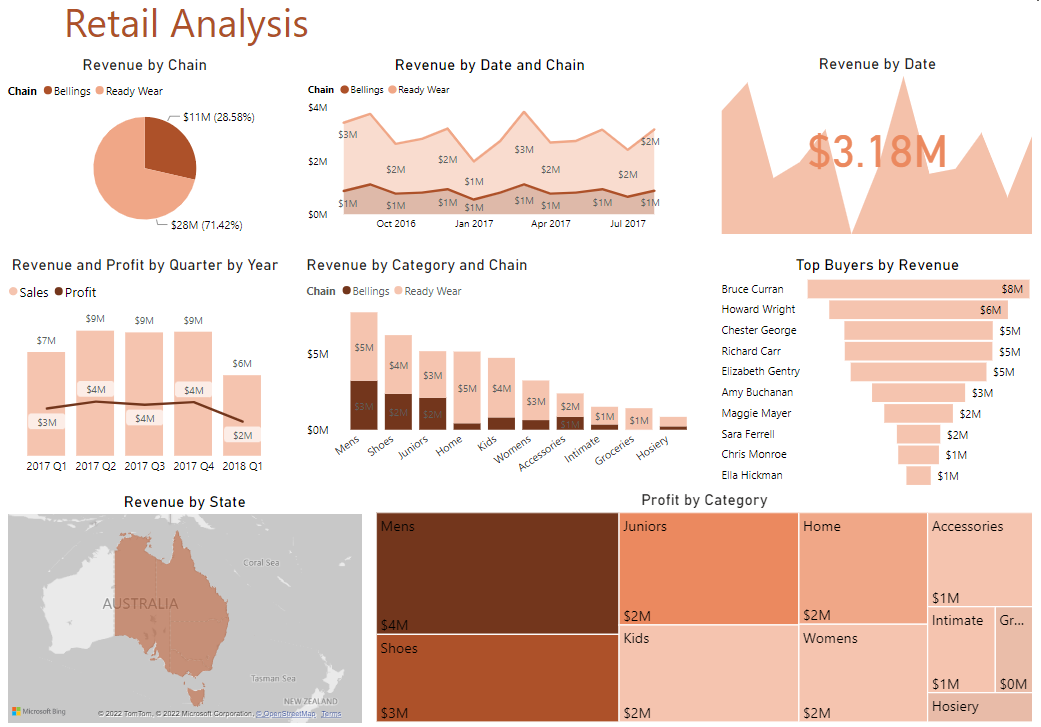

Layout of this report page (visuals, bound fields, positions):
{"tool":"powerbi","page":{"name":"Page 1","canvas":[1280,900],"ordinal":0},"visuals":[{"type":"kpi","title":"Revenue by Date","fields":{"Indicator":["Sum(Sales.Sales)"],"TrendLine":["Dates.Date"],"Goal":["Sum(Sales.Profit)"]},"box":[888.6,78.3,391.4,224.1],"z":0},{"type":"lineClusteredColumnComboChart","title":"Revenue and Profit by Quarter by Year","fields":{"Category":["Dates.FY Qtr"],"Y":["Sum(Sales.Sales)"],"Y2":["Sum(Sales.Profit)"]},"box":[16.9,323.8,345.3,276.3],"z":1000},{"type":"pieChart","title":"Revenue by Chain","fields":{"Category":["Sales.Chain"],"Y":["Sum(Sales.Sales)"]},"box":[17.5,78.8,345,223.8],"z":2000},{"type":"filledMap","title":"Revenue by State","fields":{"Category":["Regions.State"]},"box":[17.1,612.1,442.9,287.1],"z":3000},{"type":"columnChart","title":"Revenue by Category and Chain","fields":{"Category":["Sales.Category"],"Y":["Sum(Sales.Sales)"],"Series":["Sales.Chain"]},"box":[382,323.9,492,287.3],"z":4000},{"type":"treemap","title":"Profit by Category","fields":{"Values":["Sum(Sales.Profit)"],"Group":["Sales.Category"]},"box":[468.2,610.9,811.8,287.3],"z":5000},{"type":"stackedAreaChart","title":"Revenue by Date and Chain","fields":{"Category":["Sales.Date"],"Y":["Sum(Sales.Sales)"],"Series":["Sales.Chain"]},"box":[383.8,78.8,455,223.8],"z":6000},{"type":"funnel","title":"Top Buyers by Revenue","fields":{"Category":["Buyers.Buyer"],"Y":["Sum(Sales.Sales)"]},"box":[888.6,323.8,391.4,287],"z":7000},{"type":"textbox","box":[85.9,0,590.9,78.3],"z":8000}]}

Visuals, with their boxes in screenshot pixels (x1, y1, x2, y2), scaled from the page's 1280x900 canvas onto the 1041x727 screenshot:
"Revenue by Date" kpi: pyautogui.locateOnScreen(723, 63, 1040, 244)
"Revenue and Profit by Quarter by Year" lineClusteredColumnComboChart: pyautogui.locateOnScreen(14, 262, 295, 485)
"Revenue by Chain" pieChart: pyautogui.locateOnScreen(14, 64, 295, 244)
"Revenue by State" filledMap: pyautogui.locateOnScreen(14, 494, 374, 726)
"Revenue by Category and Chain" columnChart: pyautogui.locateOnScreen(311, 262, 711, 494)
"Profit by Category" treemap: pyautogui.locateOnScreen(381, 493, 1040, 726)
"Revenue by Date and Chain" stackedAreaChart: pyautogui.locateOnScreen(312, 64, 682, 244)
"Top Buyers by Revenue" funnel: pyautogui.locateOnScreen(723, 262, 1040, 493)
textbox: pyautogui.locateOnScreen(70, 0, 550, 63)
